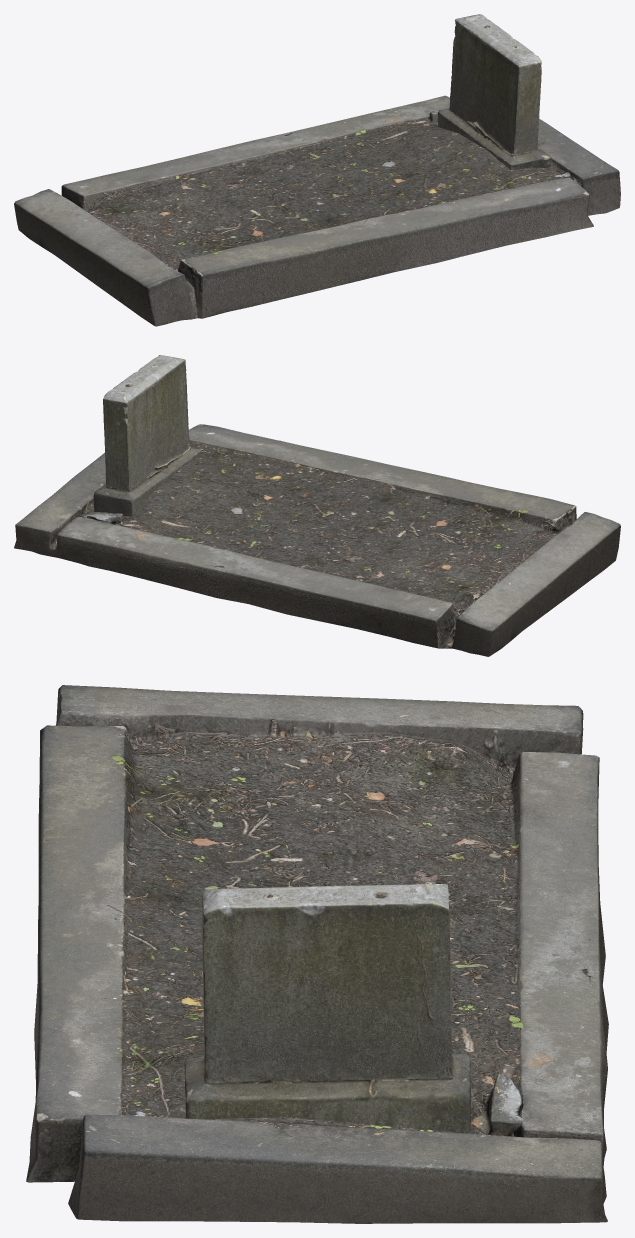
File: sm_Grave_05_01.fbx
The picture shows the model from 3 angles, top to bottom: view 1: azimuth 30°, elevation 25°; view 2: azimuth 150°, elevation 25°; view 3: azimuth 270°, elevation 25°; orthographic projection. The views are drawn at different scales.
Parts seen in each view (by area): view 1: sm_Grave_05_01_LOD0; view 2: sm_Grave_05_01_LOD0; view 3: sm_Grave_05_01_LOD0.
Part boxes in pixels (x1,y1,x2,y2): sm_Grave_05_01_LOD0: [14, 14, 620, 326]; sm_Grave_05_01_LOD0: [14, 355, 620, 656]; sm_Grave_05_01_LOD0: [26, 685, 608, 1223].
Size of the model in its own units: 240 by 128 by 66.62.
